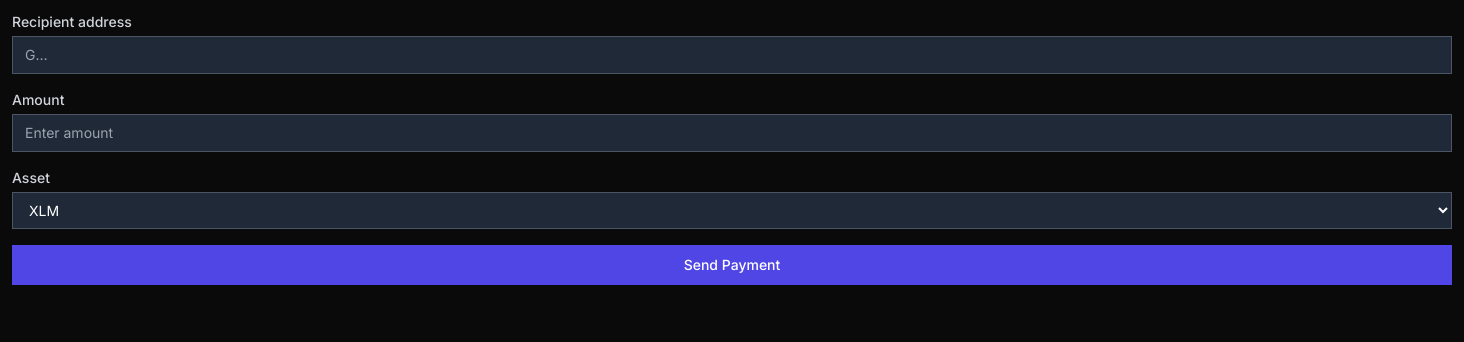
PaymentForm › shows required field errors when form is submitted empty
What coordinates should you click on to do the following:
click the button "Send Payment"
I would click on:
 (732, 265)
Its box is [12,245,1452,285].
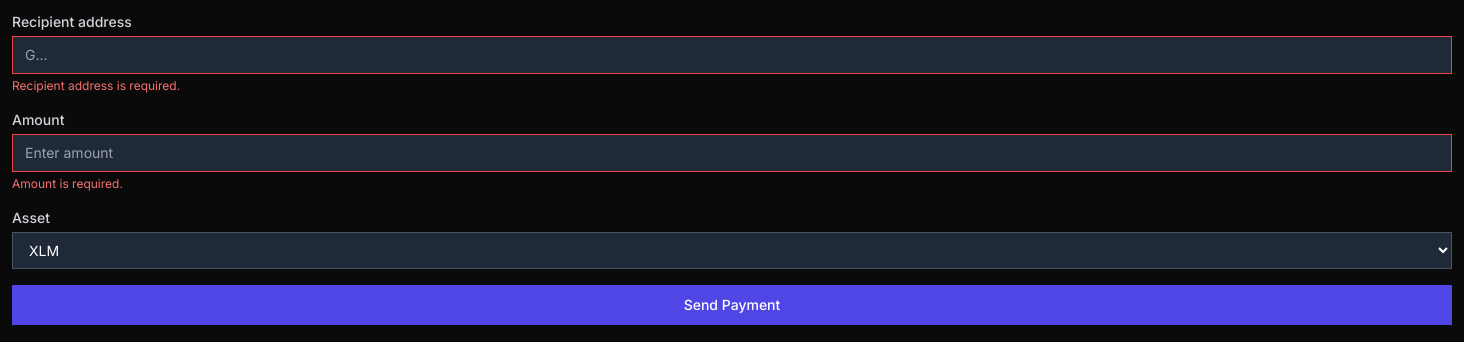
expect the text "Recipient address is required." is shown: met, box [12,78,180,93]
expect the text "Amount is required." is shown: met, box [12,176,123,191]
